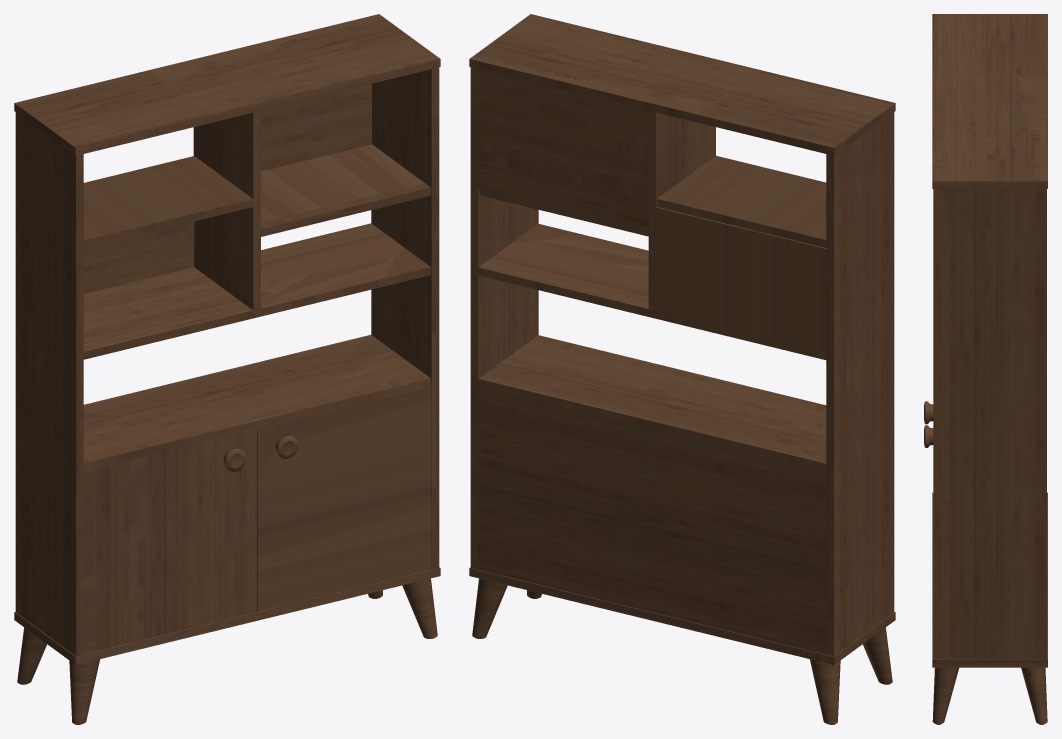
File: classic-bookcase-001.glb
The picture shows the model from 3 angles, left to right: view 1: azimuth 30°, elevation 25°; view 2: azimuth 150°, elevation 25°; view 3: azimuth 270°, elevation 25°; orthographic projection. The views are drawn at different scales.
Parts seen in each view (by area): view 1: Door; view 2: Door; view 3: Door.
Part boxes in pixels (x1,y1,x2,y2): Door: (14,14,440,724); Door: (469,14,895,724); Door: (924,14,1047,724).
Size of the model in its own units: 1.2 by 1.82 by 0.3754.
1 material, 1 textured.
